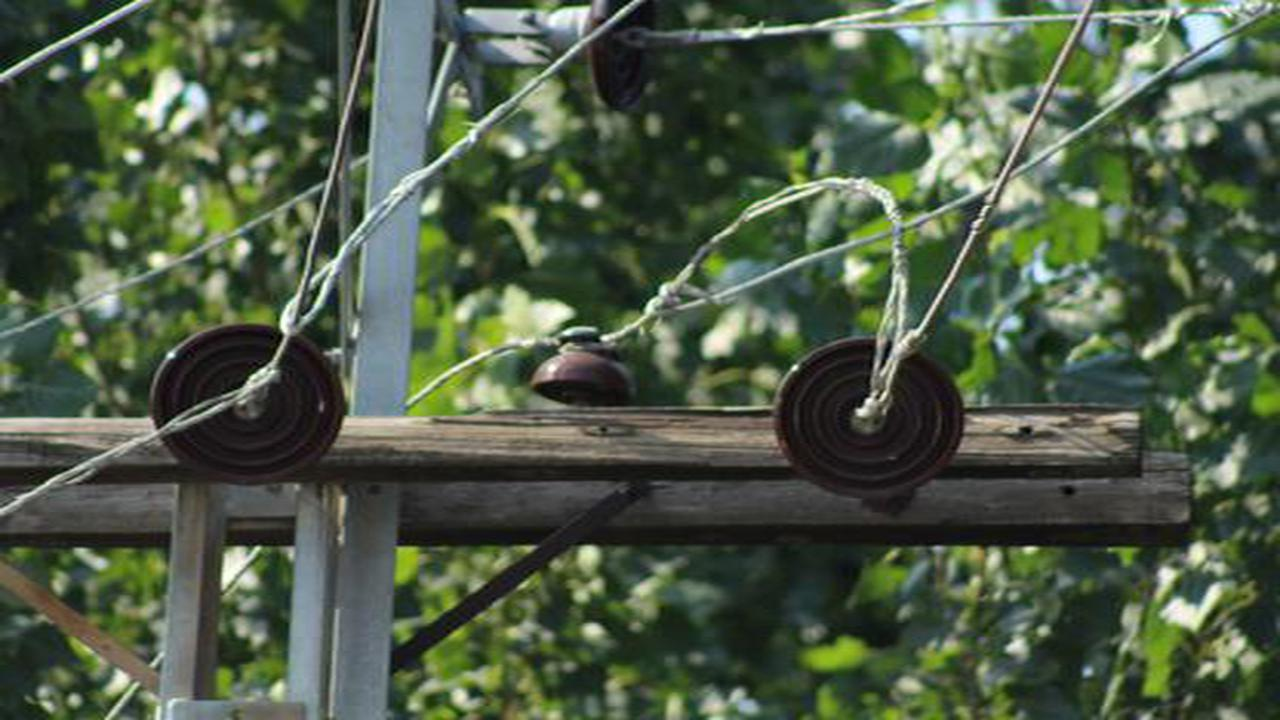insulator_disc: (145, 321, 356, 491), (769, 329, 972, 505)
insulator_pin: (530, 316, 640, 410)
